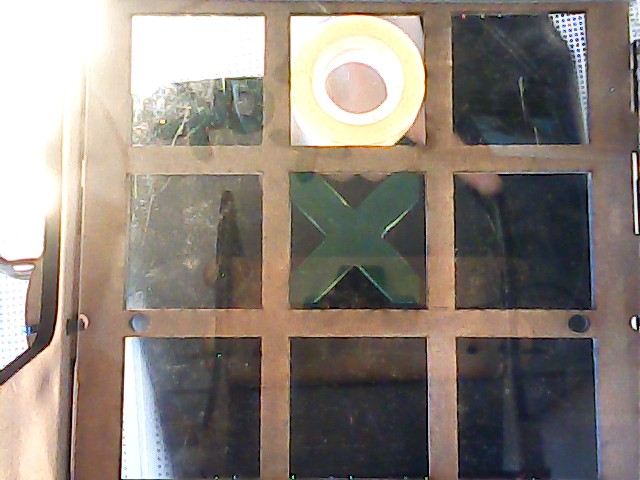X: (294, 176, 426, 310)
